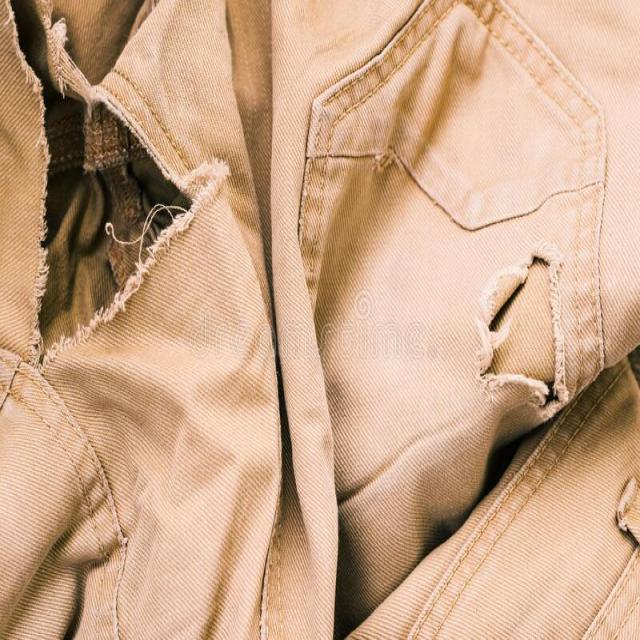clothes: (29, 123, 582, 576)
